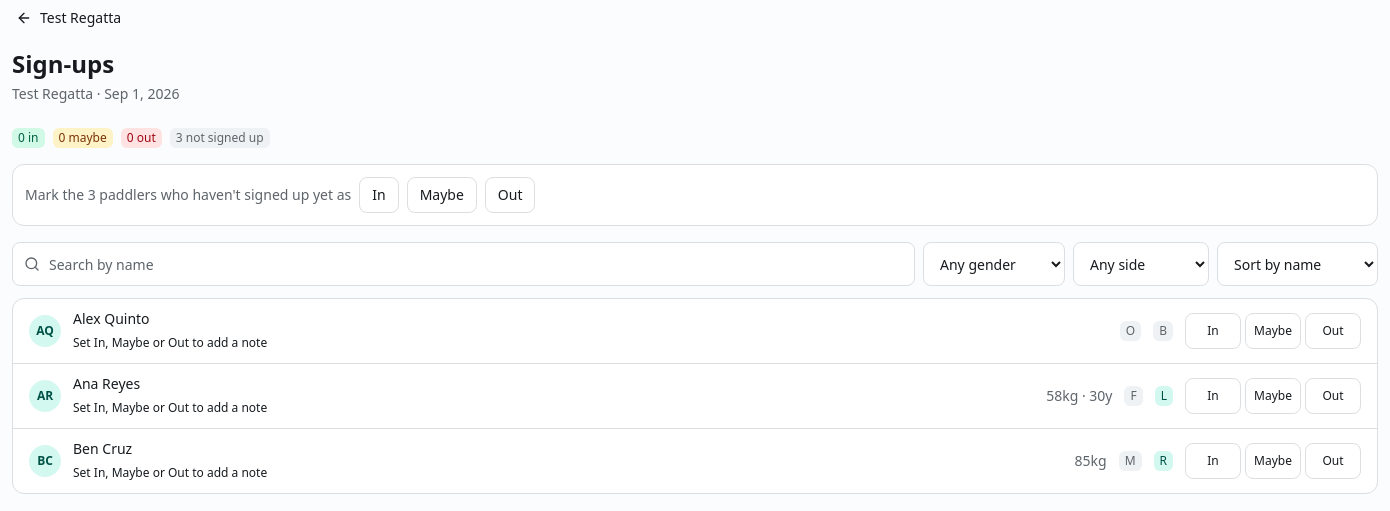
it: SignupsPage filters and row details › filters by gender and by side
Expected: the text "Ana Reyes" is shown, [73,374,140,393]
Select "Female" in the dropdown named "Filter by gender" at (994, 264), box [923,242,1065,286]
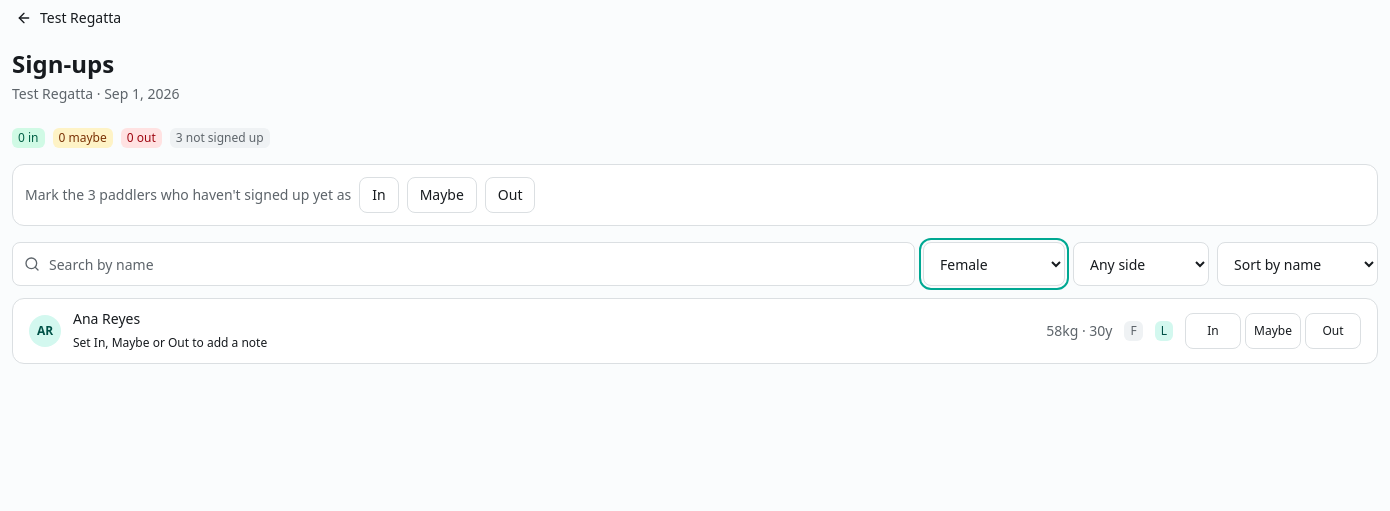
Expected: the text "Ana Reyes" is shown, [73,309,140,328]
Result: the text "Ben Cruz" is gone
Result: the text "Alex Quinto" is gone
Select "Any gender" in the dropdown named "Filter by gender" at (994, 264), box [923,242,1065,286]
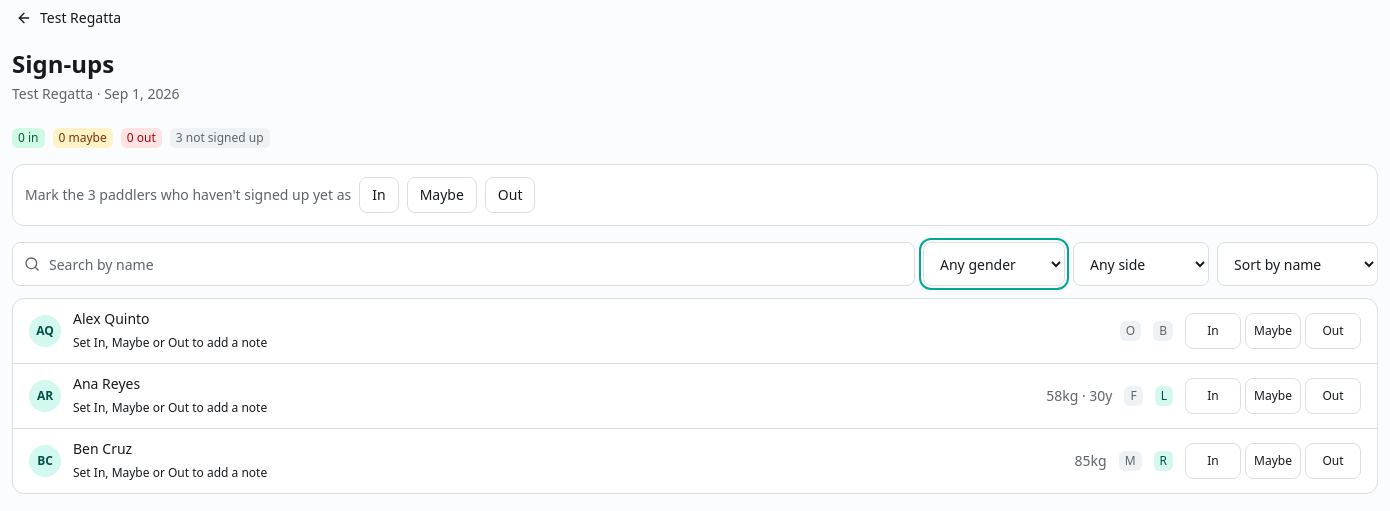
Select "Right only" in the dropdown named "Filter by paddling side" at (1141, 264), box [1073,242,1209,286]
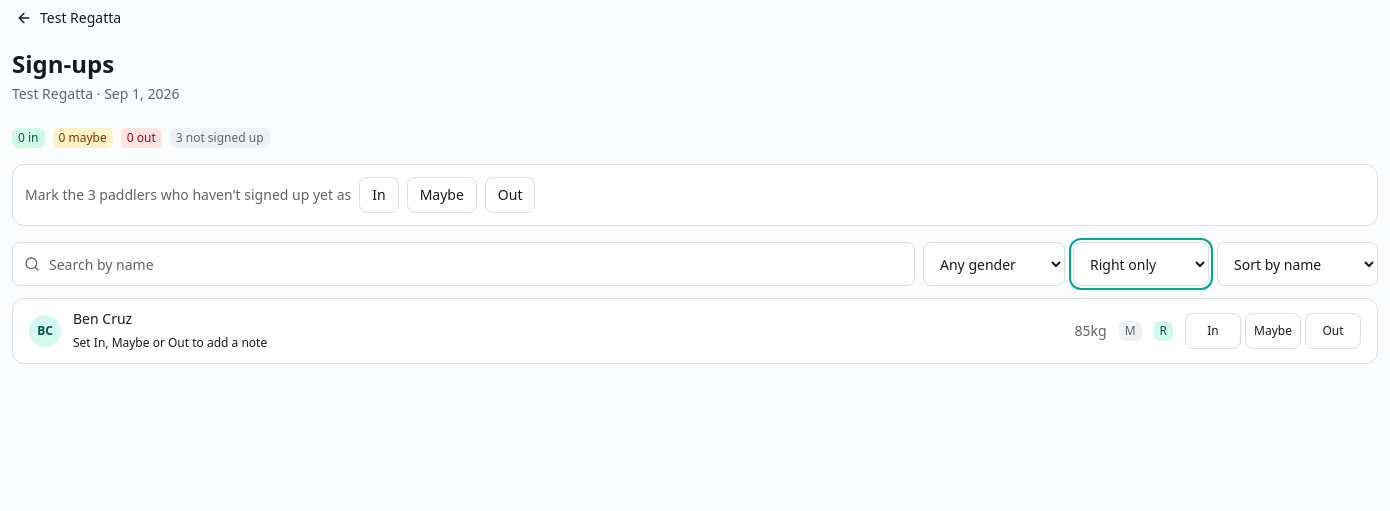
Result: the text "Ben Cruz" is shown at [73,309,132,328]
Result: the text "Ana Reyes" is gone
